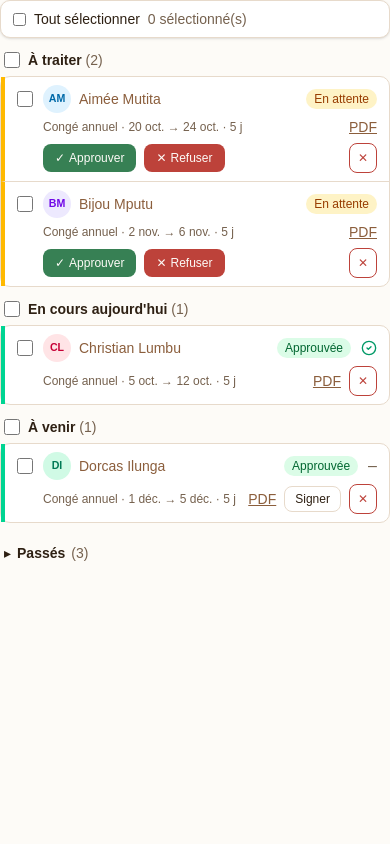
actions groupées › la sélection se coche aussi depuis les cartes (même état que le tableau)
Click the checkbox named "Sélectionner la demande de Aimée Mutita (Congé annuel)".
click(25, 99)  # box [17,91,33,107]
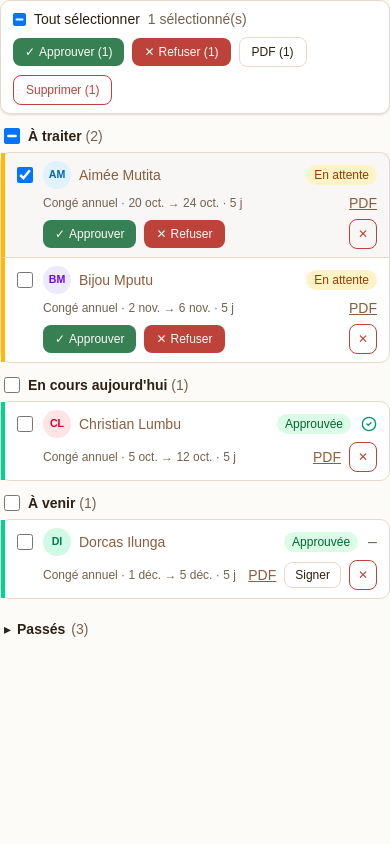
Result: the text "1 sélectionné(s)" is shown at [148,9,247,29]
